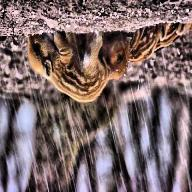boar: (22, 12, 112, 102)
